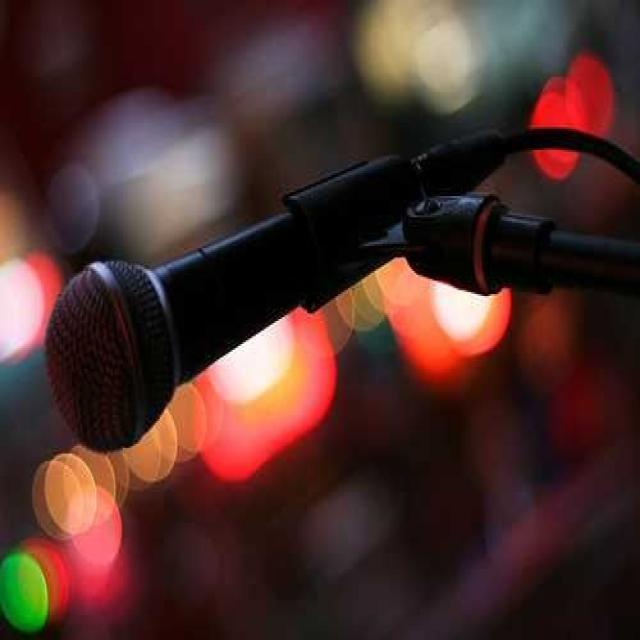microphone: (42, 176, 350, 447)
